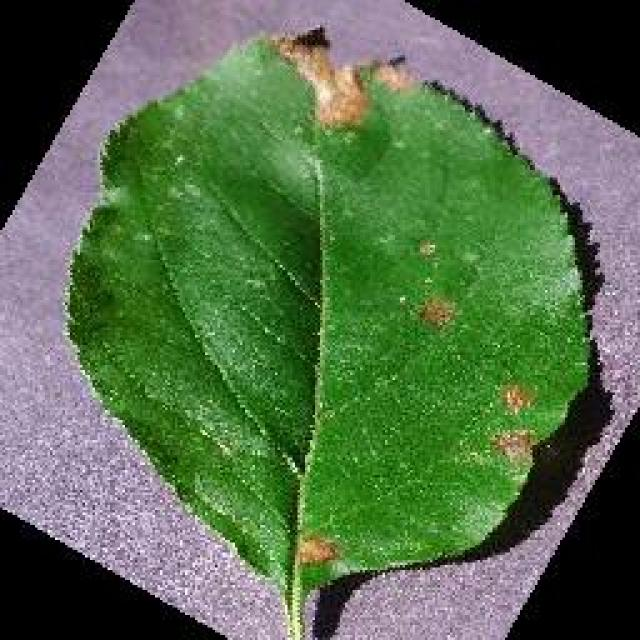Black_rot: (63, 25, 595, 637)
